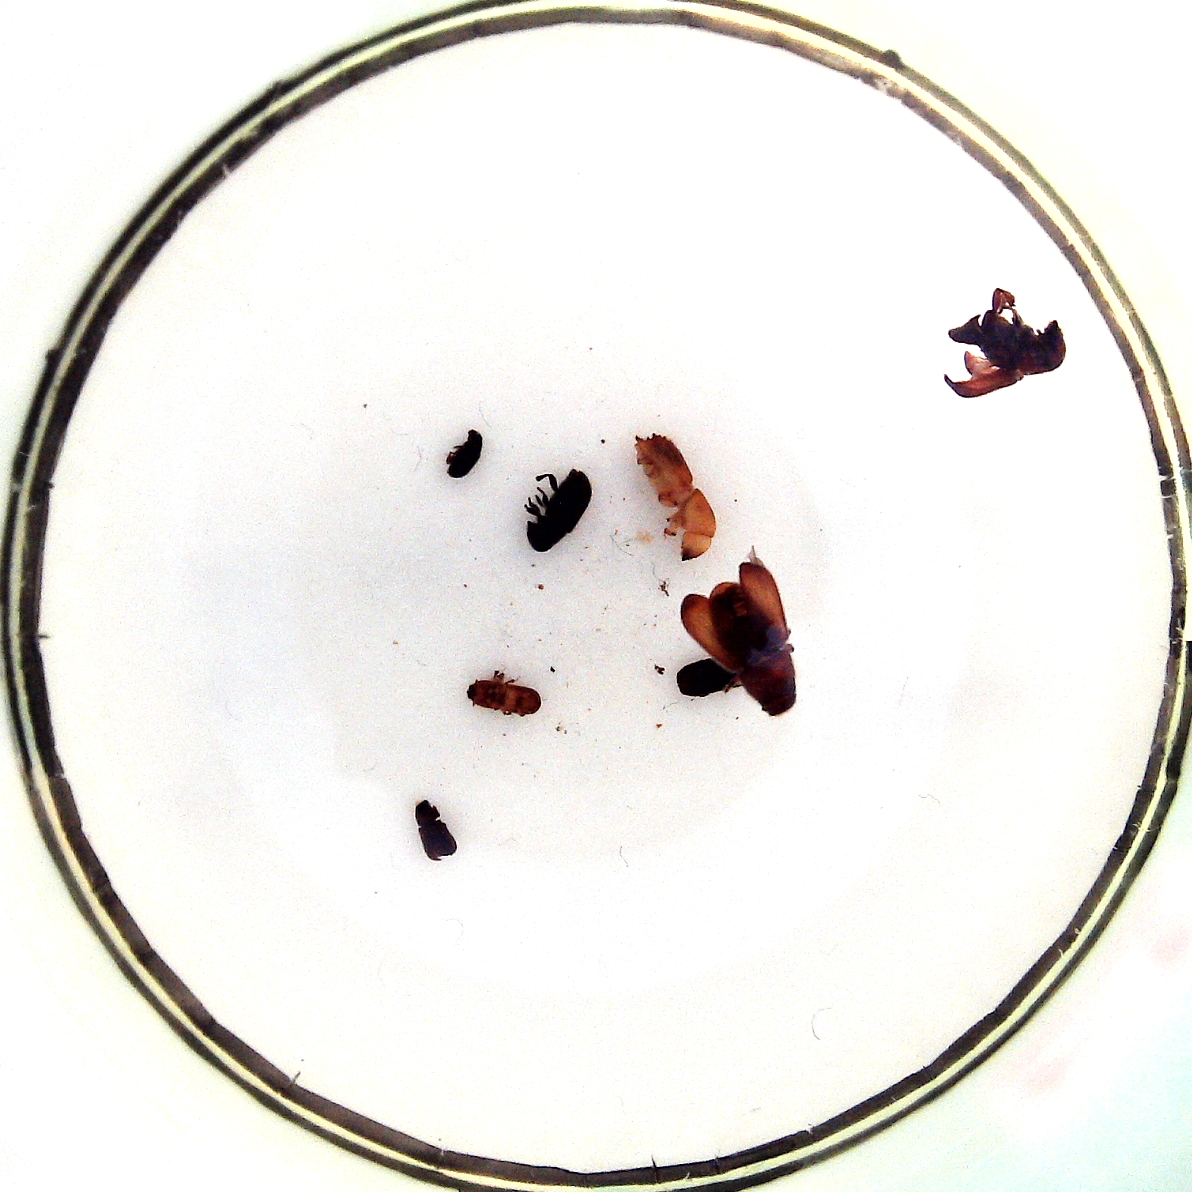Boerner: (632, 432, 716, 562)
Leconte: (682, 563, 799, 716), (949, 310, 1066, 376)
acuminatus: (448, 430, 482, 479)
armandi: (528, 468, 589, 553)
coleoptera: (468, 678, 543, 717), (414, 798, 456, 861)
